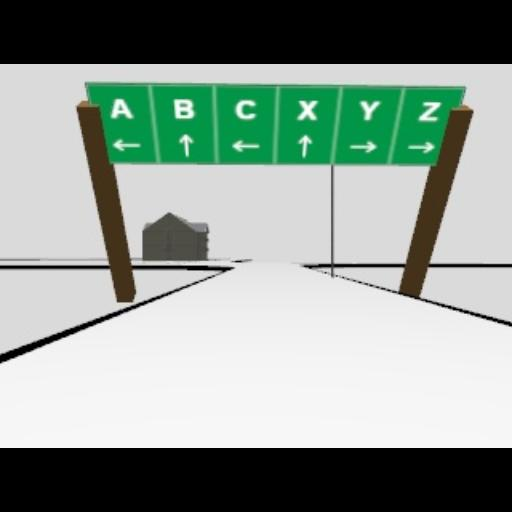A: (109, 96, 133, 118)
B: (172, 96, 194, 118)
C: (234, 98, 256, 120)
Left: (230, 140, 260, 152), (112, 138, 140, 150)
Right: (348, 140, 378, 154), (406, 140, 434, 154)
Straight: (296, 133, 312, 157), (178, 133, 194, 155)
X: (296, 100, 318, 120)
Y: (358, 100, 380, 120)
Z: (418, 100, 442, 122)
